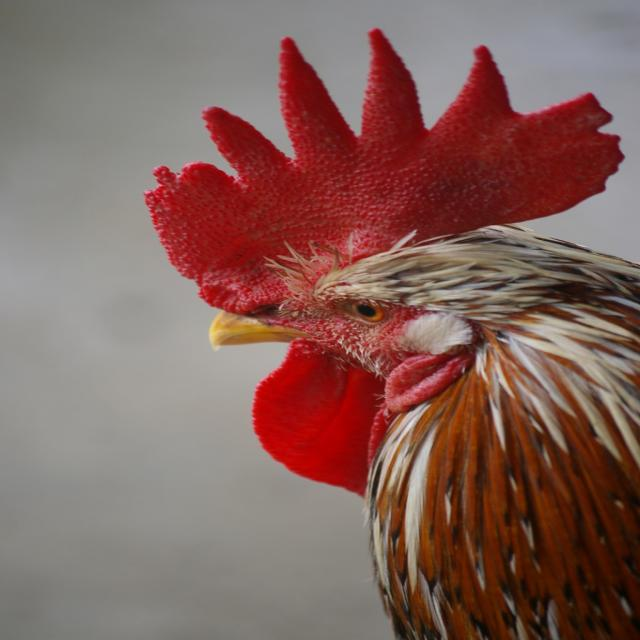Chicken: (142, 27, 640, 640)
